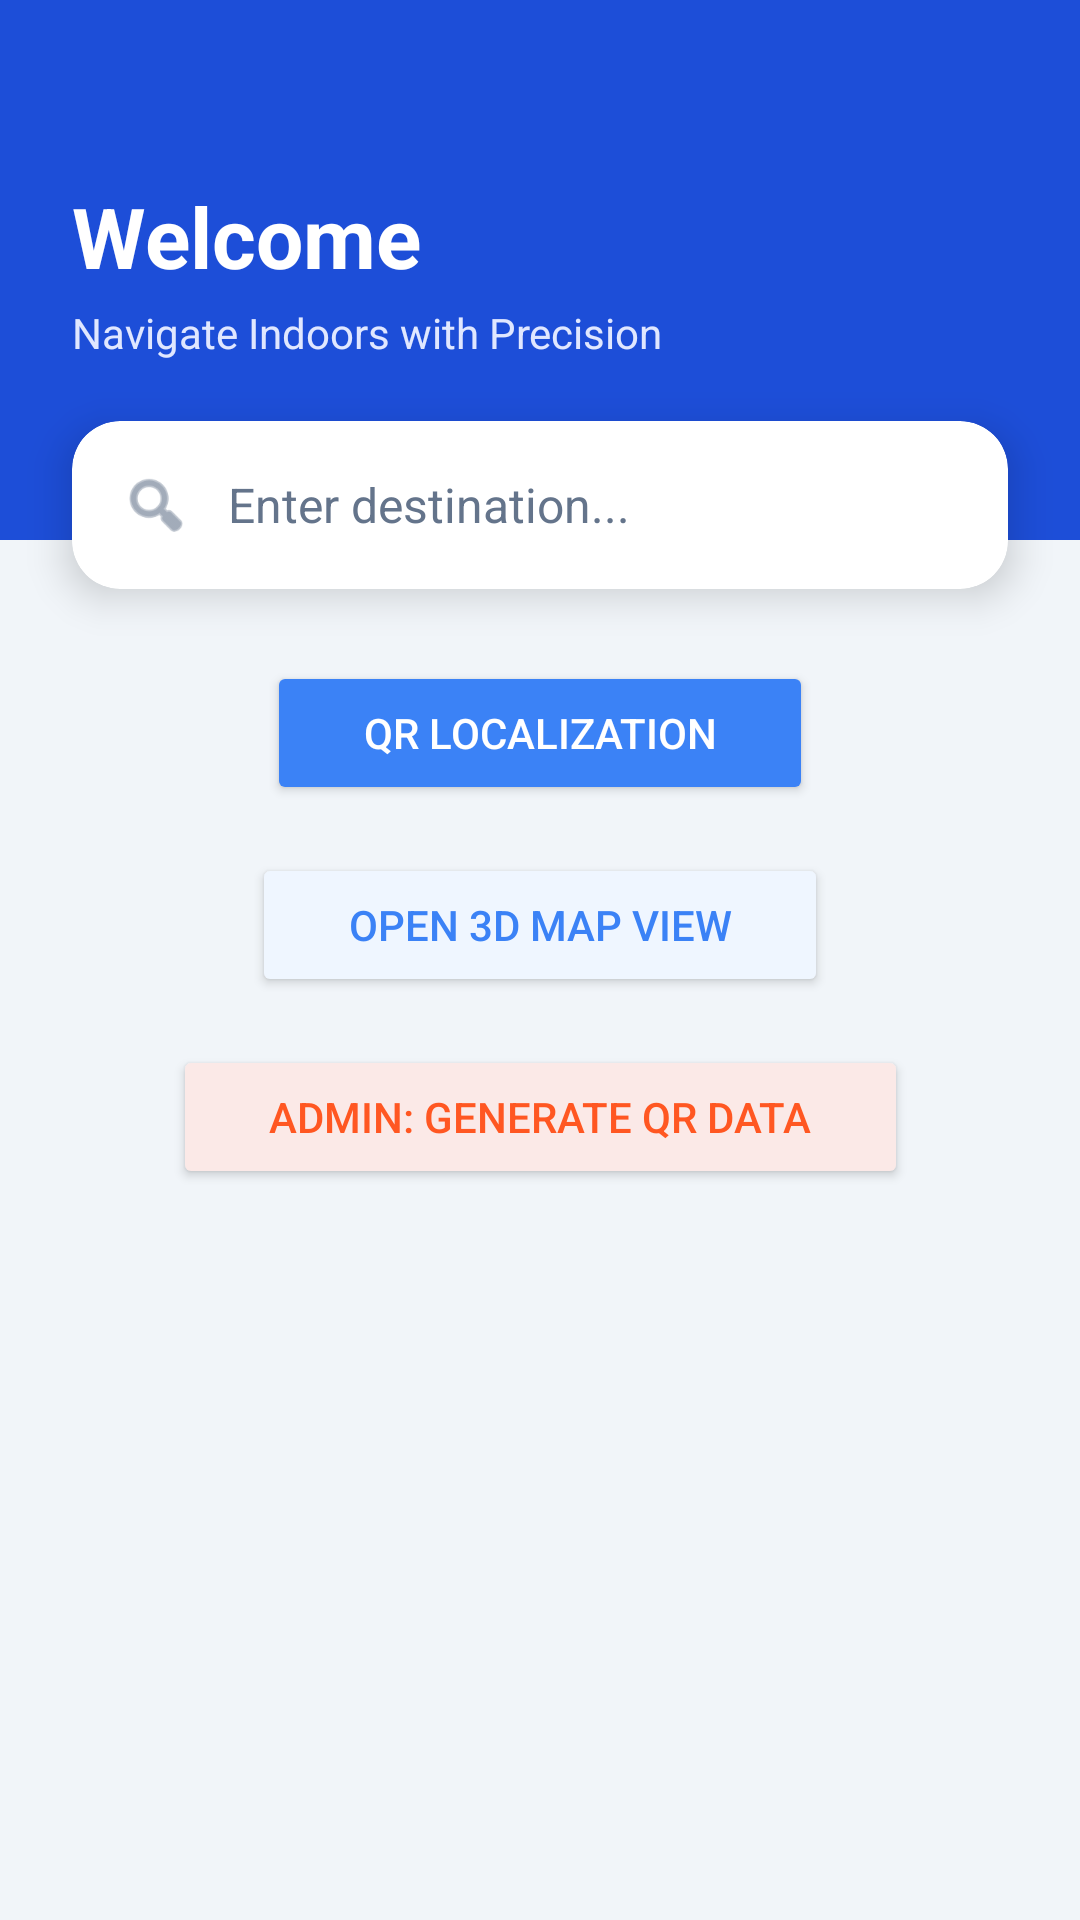

Locate icon controls on the screen. Image size 1080 × 1920, boxes as bbox=(x1, y1, x2, y2).
search: bbox=(130, 479, 182, 532)
